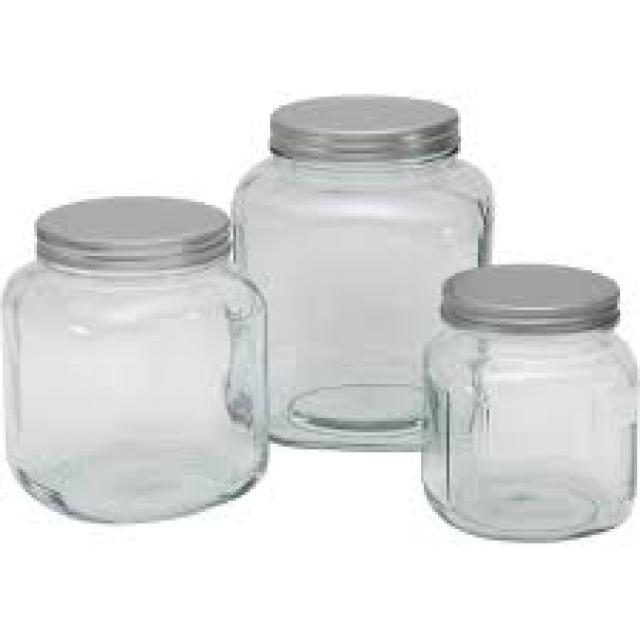glass: (222, 154, 492, 450), (0, 256, 265, 521), (418, 322, 637, 538)
metal: (31, 194, 225, 268), (267, 94, 458, 159), (438, 262, 617, 330)
